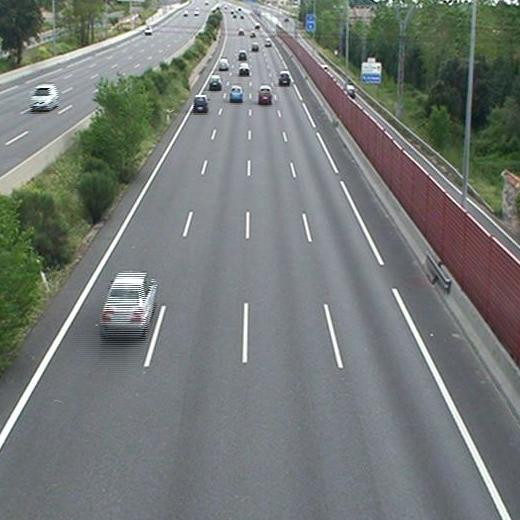car: (100, 274, 155, 332), (194, 95, 209, 111), (258, 86, 272, 103), (229, 86, 243, 100), (209, 75, 221, 88), (279, 71, 290, 84), (218, 58, 229, 69), (239, 64, 250, 74), (238, 51, 247, 59)
